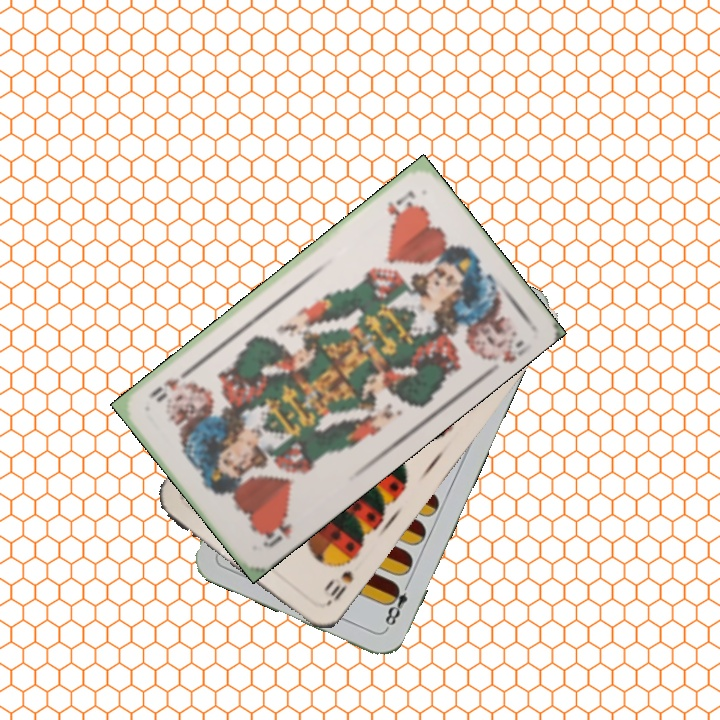E8: (381, 576, 413, 632)
HO: (257, 510, 295, 550), (383, 186, 418, 221)
S10: (326, 566, 356, 603)
